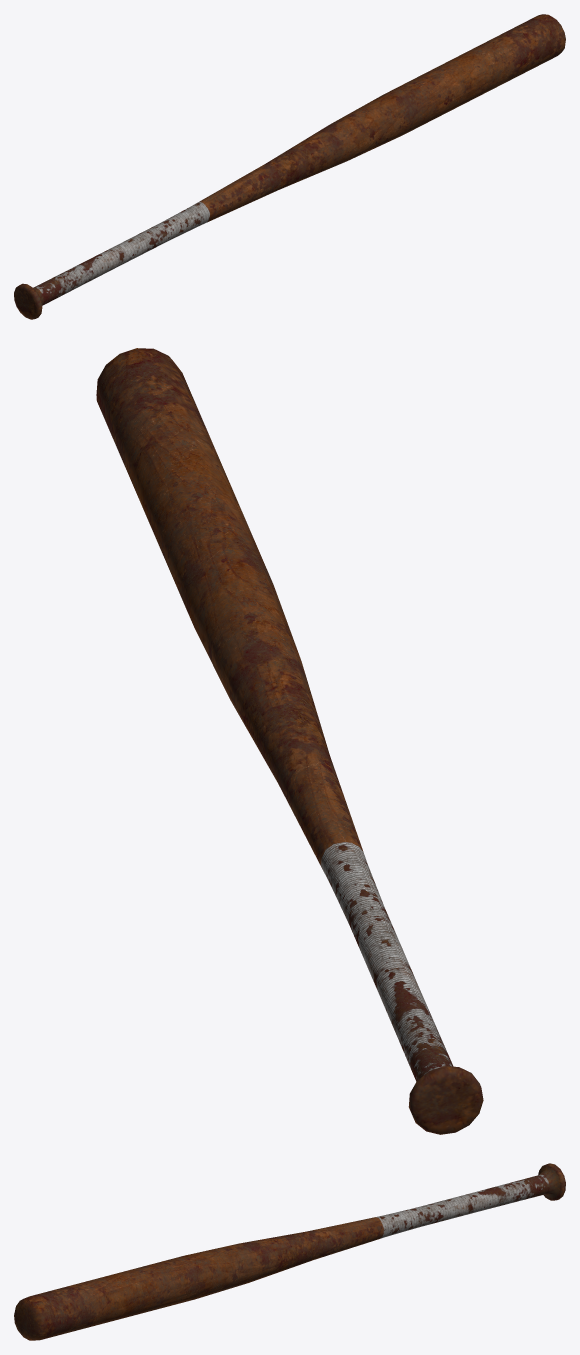
The model's file is Anim_idle_bate_objetos.0031.obj.
3 views of the same model, one above another, from view 1: azimuth 90°, elevation 25°; view 2: azimuth 150°, elevation 25°; view 3: azimuth 270°, elevation 25° (orthographic). The views are drawn at different scales.
Parts seen in each view (by area): view 1: Bate1; view 2: Bate1; view 3: Bate1.
Boxes of the visible parts, bbox=[...] form: Bate1: bbox=[14, 14, 565, 319]; Bate1: bbox=[96, 348, 483, 1134]; Bate1: bbox=[14, 1163, 565, 1340].
Size of the model in its own units: 3.78 by 0.8317 by 4.08.
